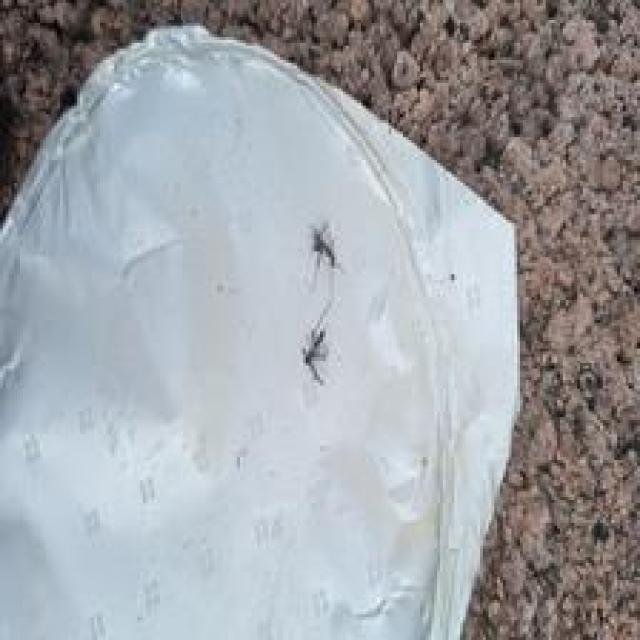Aedes albopictus: (0, 23, 523, 640)
